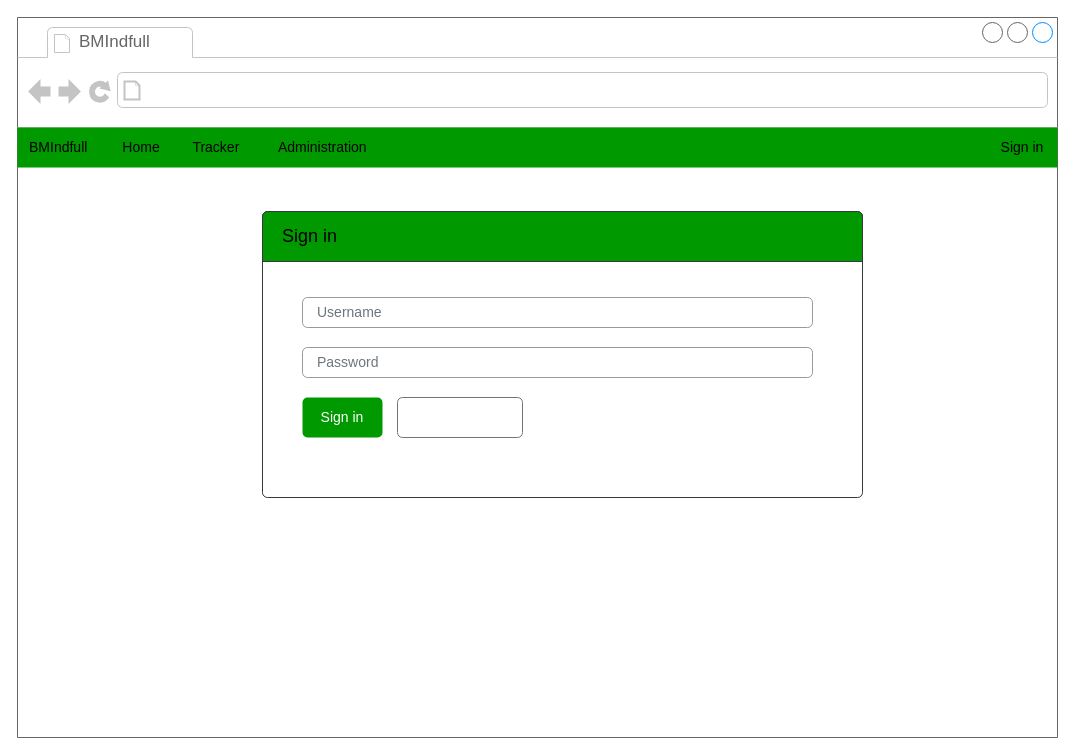
This 1075x755 diagram has some shape labels left out. Here are the shapes that lost their labels. From the top down, the centre of each, then its label:
At [272,90]: "https://BMIndfull/login".
At [459,417]: "Create account".
